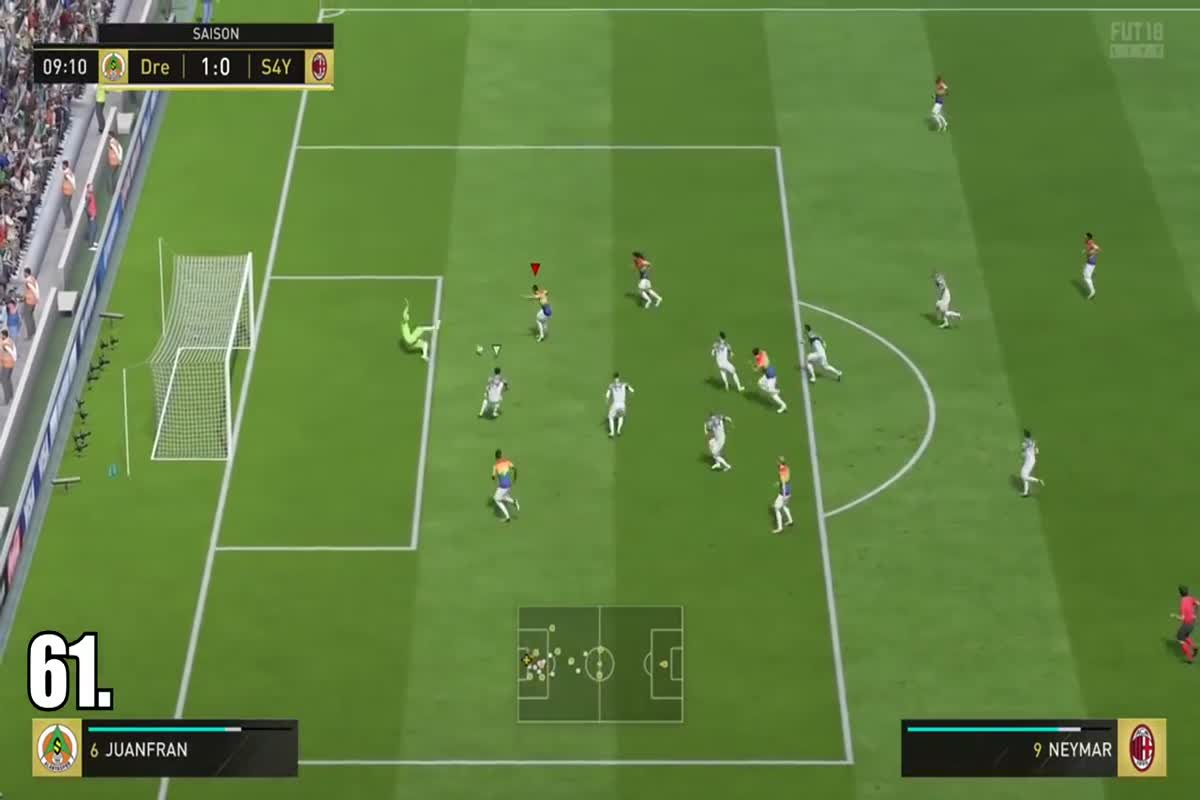ball: (466, 339, 490, 357)
